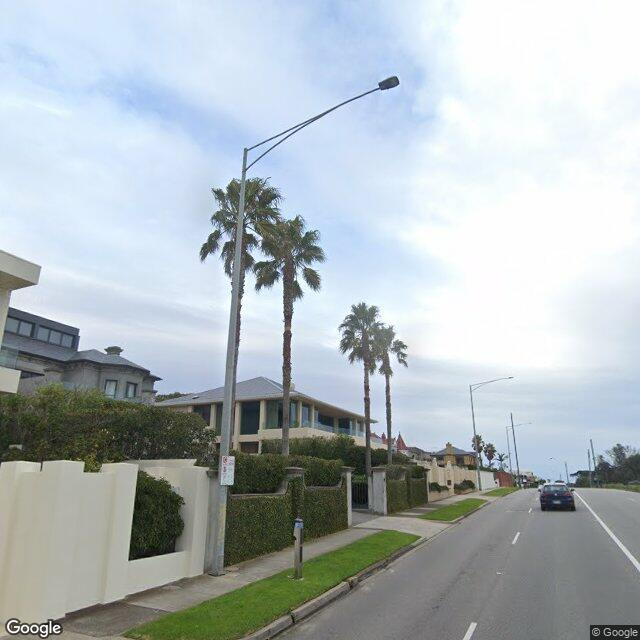steel-pole: (204, 149, 247, 576), (469, 386, 482, 490), (511, 412, 519, 487), (506, 427, 512, 472), (590, 438, 596, 471), (588, 449, 591, 488), (564, 462, 568, 483)
streetlight: (245, 76, 400, 172), (470, 377, 514, 392), (507, 422, 533, 430)
